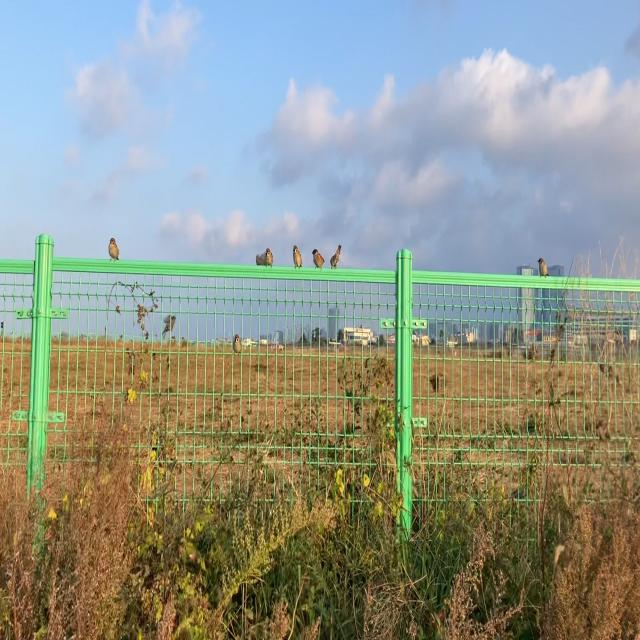bird: (311, 243, 327, 272), (108, 232, 121, 264), (163, 314, 177, 337), (330, 243, 342, 269), (537, 255, 550, 278), (262, 246, 274, 267), (293, 243, 303, 268), (232, 332, 242, 354)
